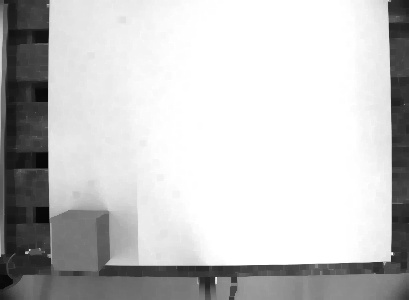b5: (49, 208, 113, 275)
